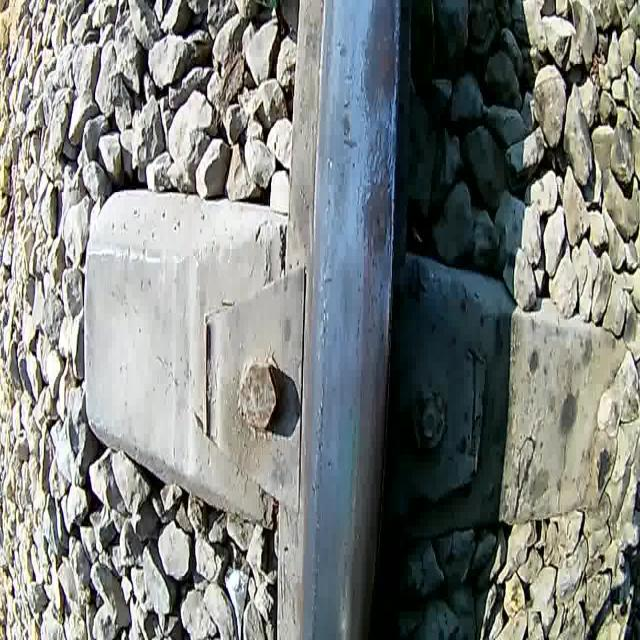Squats: (356, 121, 396, 282), (358, 0, 404, 121), (331, 27, 361, 157)
